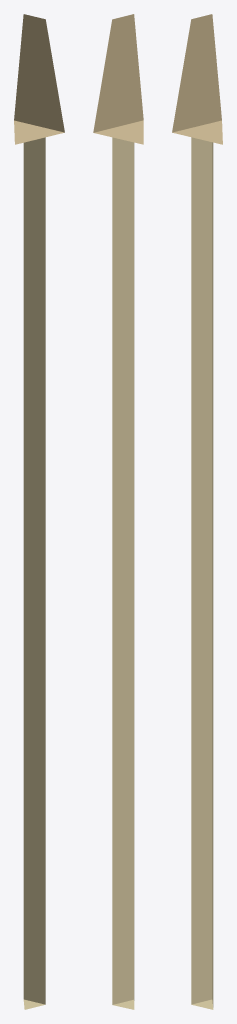
The model's file is field_wheat_stalk_dark.glb.
3 renders of one model, left to right at view 1: azimuth 90°, elevation 25°; view 2: azimuth 150°, elevation 25°; view 3: azimuth 270°, elevation 25°, orthographic.
Parts seen in each view (by area): view 1: Stalk, Ear; view 2: Stalk, Ear; view 3: Stalk, Ear.
Part boxes in pixels (x1,y1,x2,y2): Stalk: (23,137,45,1009); Ear: (14,14,64,144); Stalk: (112,137,134,1009); Ear: (93,14,143,144); Stalk: (191,137,213,1009); Ear: (172,14,222,144).
Size of the model in its own units: 0.06 by 1.13 by 0.053.
